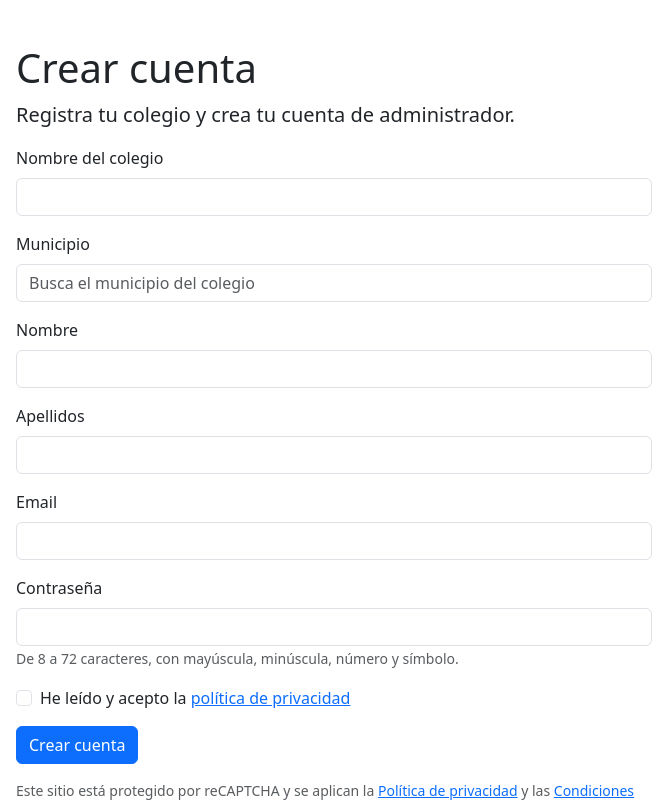
Test: RegisterPage › client validation › does not send the form and shows an inline error under every empty field
Expected: the dropdown labelled "Municipio" is shown, [16, 264, 652, 302]
Step 1. Click the button "Crear cuenta" → (77, 745), box [16, 726, 138, 764]
(page scrolled)
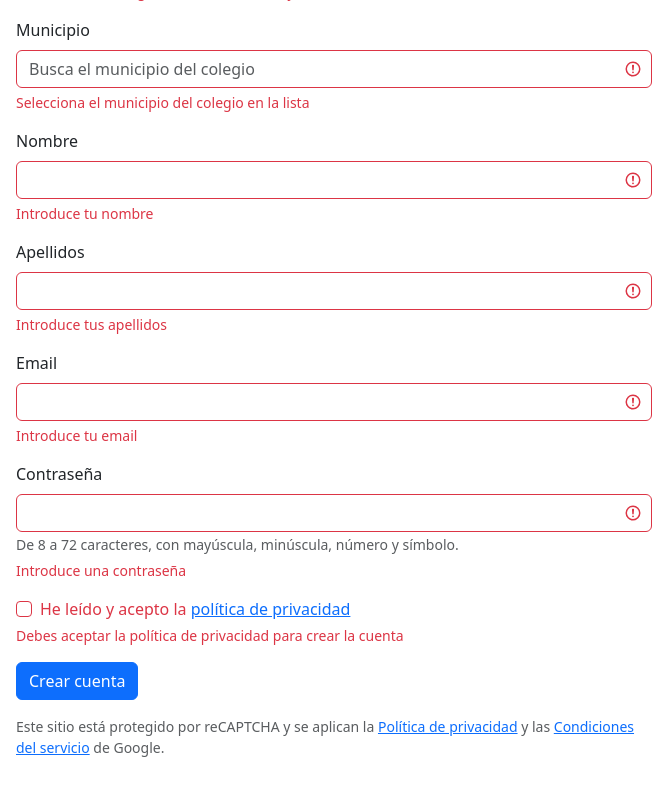
Expected: the message "Selecciona el municipio del colegio en la lista" is shown, [16, 93, 310, 112]
Expected: the message "Introduce tu nombre" is shown, [16, 204, 154, 223]
Expected: the message "Introduce tus apellidos" is shown, [16, 315, 167, 334]
